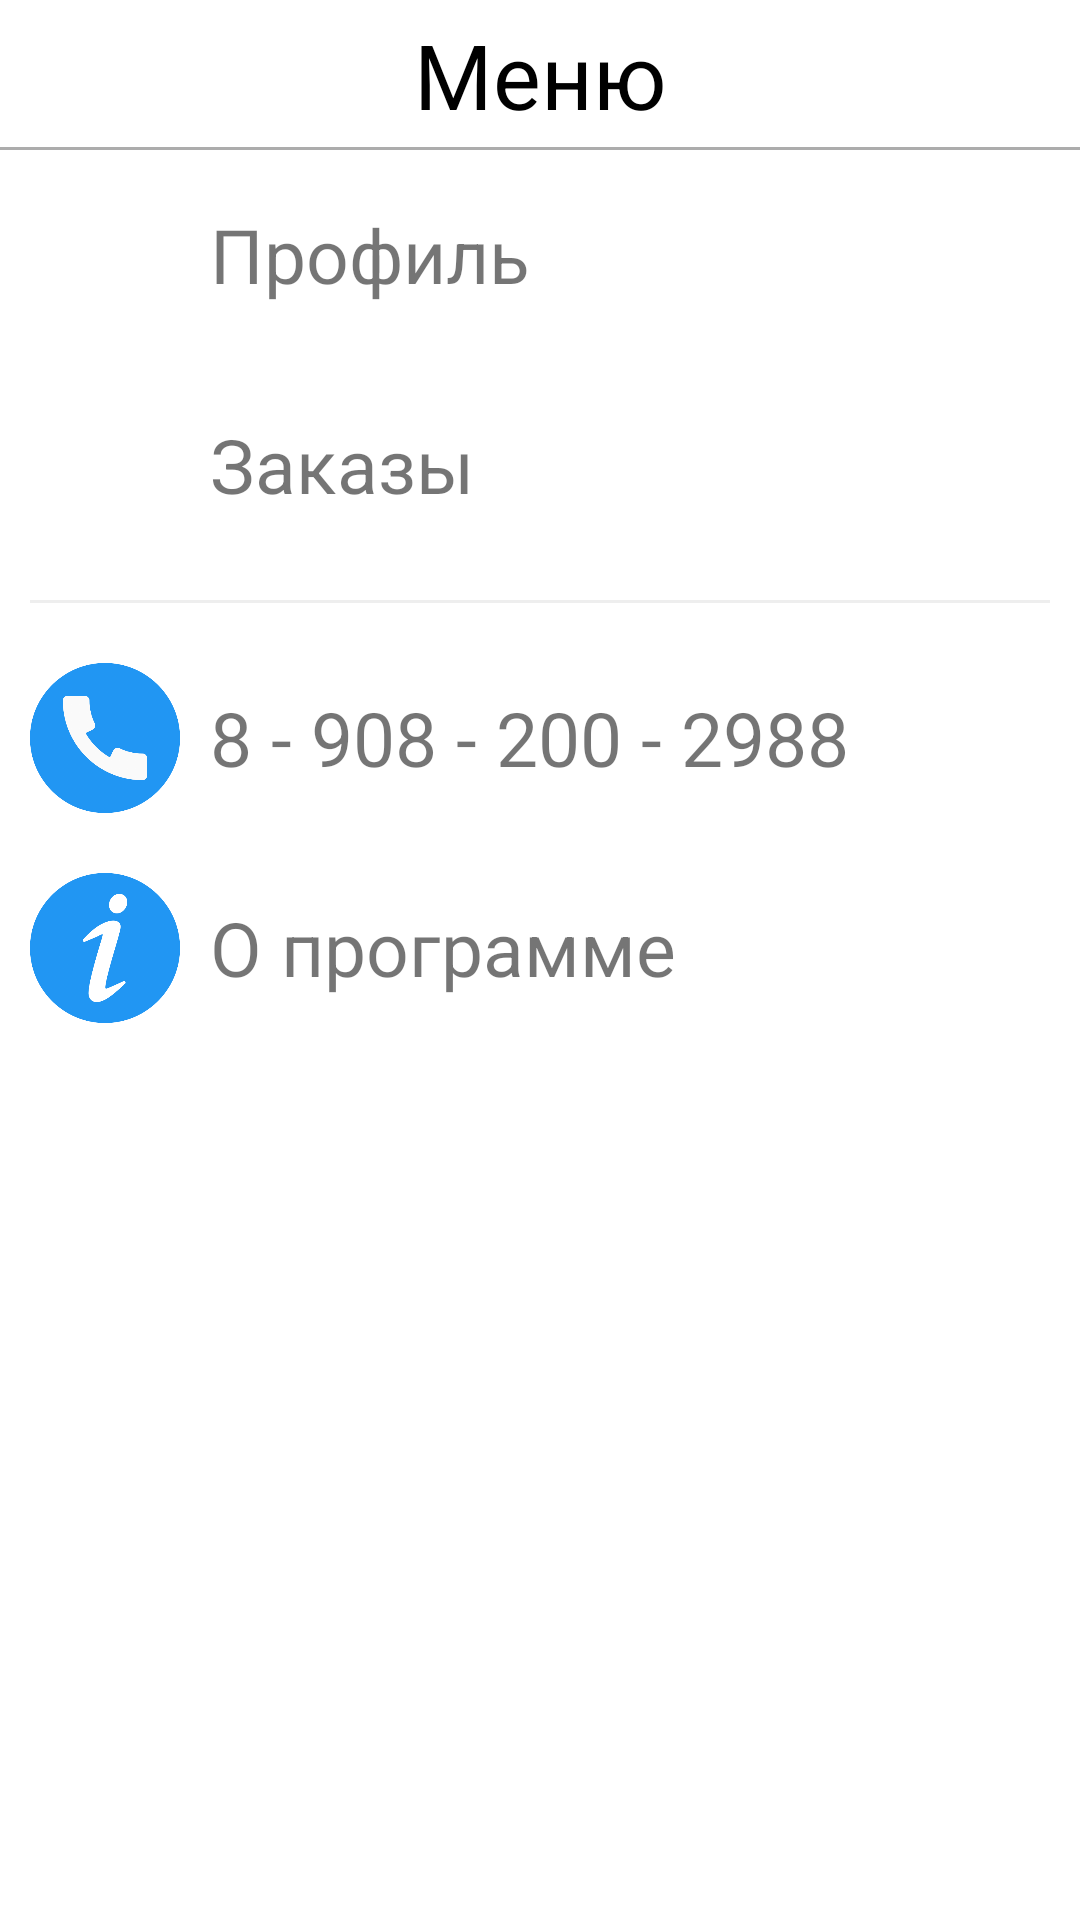

Screen size 1080w x 1920h. Icon name, then its center in pixels as [x,y]:
info: [105,948]
telephone: [105,738]
